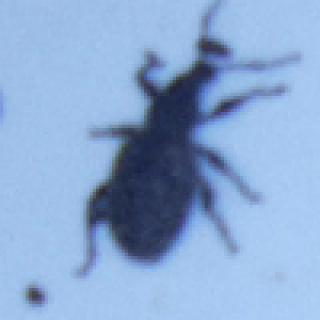bvw: (72, 0, 300, 279)
